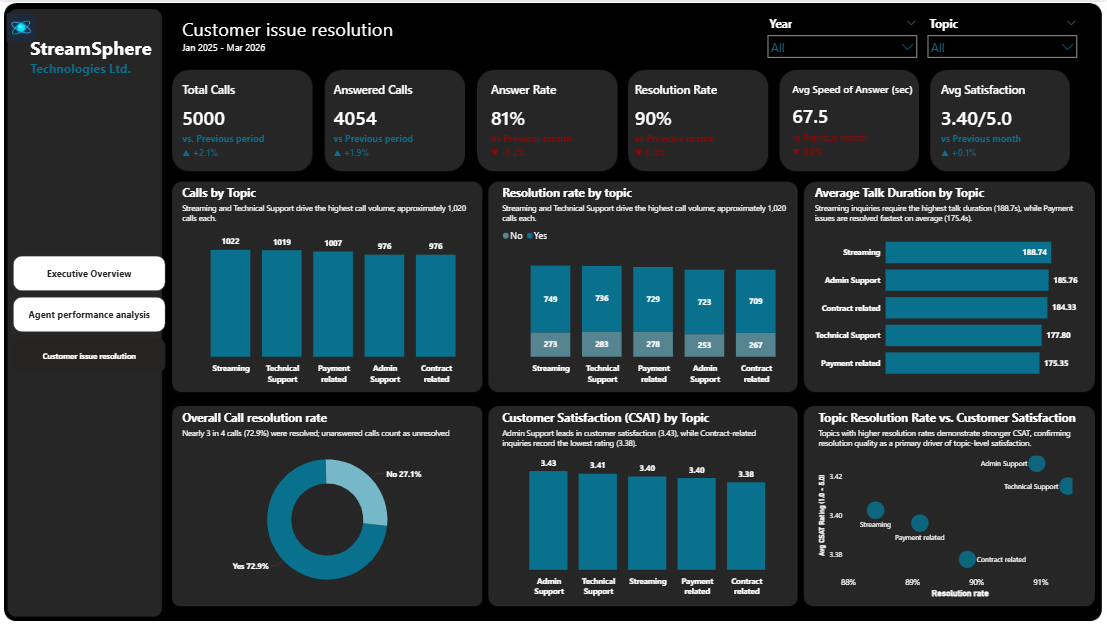

The page's visual inventory and layout, read from the dashboard file:
{"tool":"powerbi","page":{"name":"Customer issue resolution","canvas":[1920,1080],"ordinal":2},"visuals":[{"type":"textbox","box":[10,0,280,280],"z":0},{"type":"image","box":[0,19.5,80.1,49.8],"z":1000},{"type":"cardVisual","title":"Total Calls","fields":{"Data":["_Measures.Total Calls"]},"box":[314.9,139.3,224.4,141.2],"z":3000},{"type":"cardVisual","title":"Answered Calls","fields":{"Data":["_Measures.Answered Calls"]},"box":[575.7,138.5,225.1,140.7],"z":4000},{"type":"cardVisual","title":"Answer Rate","fields":{"Data":["_Measures.Answer Rate %"]},"box":[848.3,138.5,225.1,140.7],"z":5000},{"type":"cardVisual","title":"Resolution Rate","fields":{"Data":["_Measures.Resolution Rate %"]},"box":[1097.2,138.5,225.1,140.7],"z":6000},{"type":"cardVisual","title":"Avg Speed of Answer (sec)","fields":{"Data":["_Measures.Avg Speed of Answer (sec)"]},"box":[1369.9,138.5,225.1,140.7],"z":7000},{"type":"cardVisual","title":"Avg Satisfaction","fields":{"Data":["_Measures.Avg Satisfaction"]},"box":[1627.4,138.5,225.1,140.7],"z":8000},{"type":"textbox","box":[313.8,19.5,930.6,93.1],"z":9000},{"type":"slicer","fields":{"Values":["Calendar.Year"]},"box":[1322.3,19.5,279.2,93.1],"z":10000},{"type":"clusteredColumnChart","title":"Calls by Topic","fields":{"Category":["Call Center Dataset.topic"],"Y":["CountNonNull(Call Center Dataset.call id)"]},"box":[313.8,316,521.6,352.8],"z":12000},{"type":"columnChart","title":"Resolution rate by topic","fields":{"Category":["Call Center Dataset.topic"],"Y":["CountNonNull(Call Center Dataset.call id)"],"Series":["Call Center Dataset.resolved"]},"box":[867.8,316,521.6,352.8],"z":13000},{"type":"clusteredBarChart","title":"Average Talk Duration by Topic","fields":{"Y":["Avg(Call Center Dataset.avgtalkduration)"],"Category":["Call Center Dataset.topic"]},"box":[1408.9,316,469.6,352.8],"z":14000},{"type":"clusteredColumnChart","title":"Customer Satisfaction (CSAT) by Topic","fields":{"Category":["Call Center Dataset.topic"],"Y":["Avg(Call Center Dataset.satisfaction rating)"]},"box":[867.8,705.5,502.1,331.1],"z":15000},{"type":"scatterChart","title":"Topic Resolution Rate vs. Customer Satisfaction","fields":{"X":["_Measures.Resolution Rate %"],"Y":["Avg(Call Center Dataset.satisfaction rating)"],"Category":["Call Center Dataset.topic"],"Size":["CountNonNull(Call Center Dataset.call id)"]},"box":[1415.3,705.5,463.1,331.1],"z":16000},{"type":"slicer","fields":{"Values":["Call Center Dataset.topic"]},"box":[1599.3,19.5,279.2,93.1],"z":17000},{"type":"pageNavigator","box":[26,439.3,264,203.4],"z":18000},{"type":"donutChart","title":"Overall Call resolution rate","fields":{"Category":["Call Center Dataset.resolved"],"Y":["CountNonNull(Call Center Dataset.call id)"]},"box":[313.8,705.5,512.9,331.1],"z":18001}]}

Visuals, with their boxes in screenshot pixels (x1, y1, x2, y2), scaled from the page's 1920x1080 canvas onto the 1107x625 screenshot:
textbox: <box>6,0,167,162</box>
image: <box>0,11,46,40</box>
"Total Calls" cardVisual: <box>182,81,311,162</box>
"Answered Calls" cardVisual: <box>332,80,462,162</box>
"Answer Rate" cardVisual: <box>489,80,619,162</box>
"Resolution Rate" cardVisual: <box>633,80,762,162</box>
"Avg Speed of Answer (sec)" cardVisual: <box>790,80,920,162</box>
"Avg Satisfaction" cardVisual: <box>938,80,1068,162</box>
textbox: <box>181,11,717,65</box>
slicer - Calendar.Year: <box>762,11,923,65</box>
"Calls by Topic" clusteredColumnChart: <box>181,183,482,387</box>
"Resolution rate by topic" columnChart: <box>500,183,801,387</box>
"Average Talk Duration by Topic" clusteredBarChart: <box>812,183,1083,387</box>
"Customer Satisfaction (CSAT) by Topic" clusteredColumnChart: <box>500,408,790,600</box>
"Topic Resolution Rate vs. Customer Satisfaction" scatterChart: <box>816,408,1083,600</box>
slicer - Call Center Dataset.topic: <box>922,11,1083,65</box>
pageNavigator: <box>15,254,167,372</box>
"Overall Call resolution rate" donutChart: <box>181,408,477,600</box>
